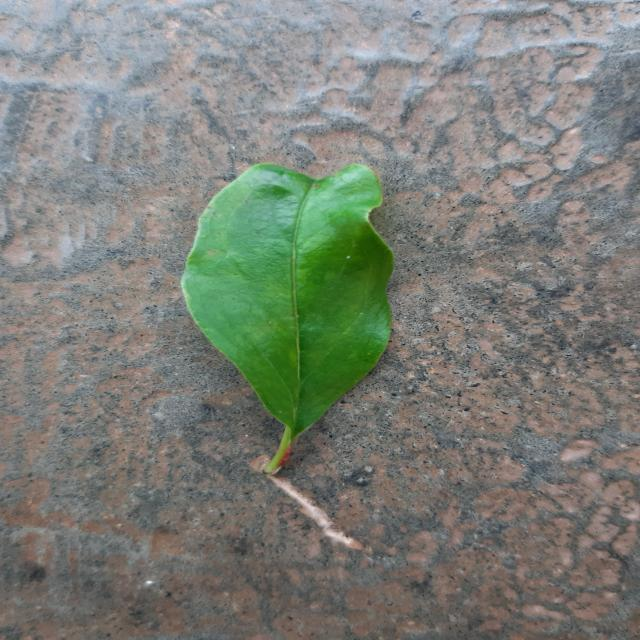pomgranate: (182, 164, 393, 474)
